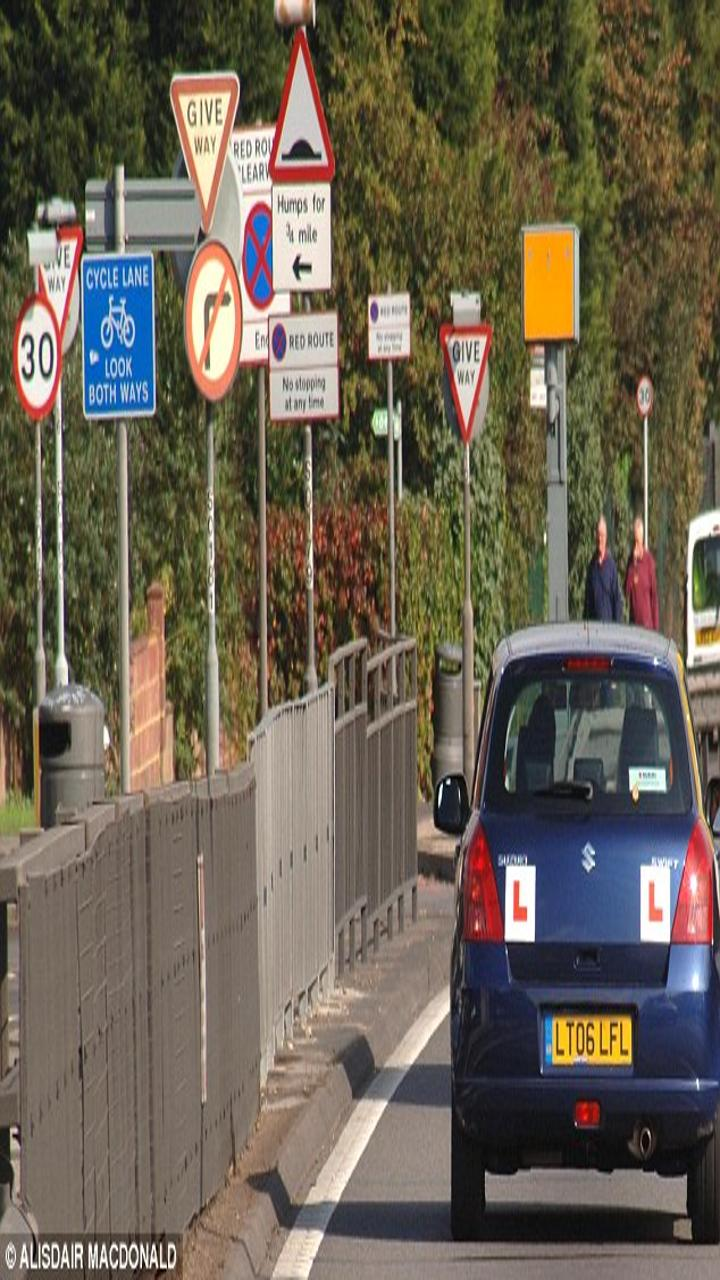Traffic sign: (155, 67, 267, 245), (72, 247, 175, 431), (172, 245, 263, 408), (432, 301, 503, 457), (272, 23, 332, 189), (4, 295, 71, 436), (270, 313, 348, 421), (356, 289, 418, 372), (623, 369, 662, 413)
vehicle: (436, 627, 720, 1231)
